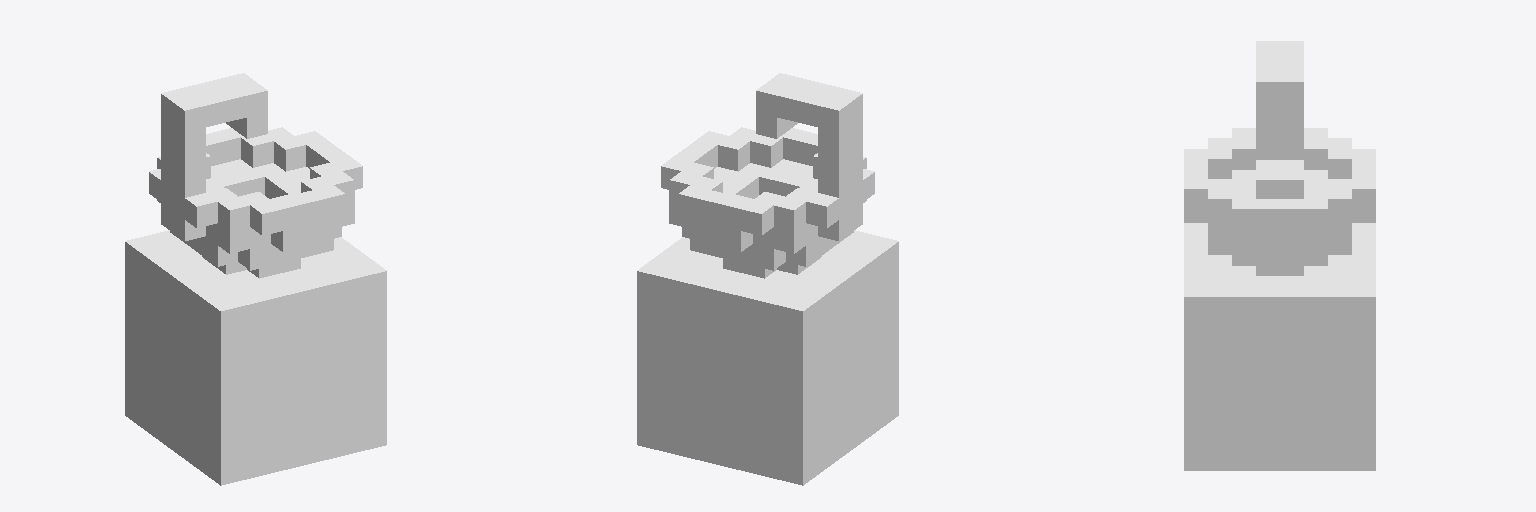
Rendered from Bathroom_Sink_Simple.obj.
3 views of the same model, side by side, from view 1: azimuth 30°, elevation 25°; view 2: azimuth 150°, elevation 25°; view 3: azimuth 270°, elevation 25° (orthographic).
Parts seen in each view (by area): view 1: Bathroom_Sink_Simple; view 2: Bathroom_Sink_Simple; view 3: Bathroom_Sink_Simple.
Boxes of the visible parts, box(x1,y1,x2,y2) form: Bathroom_Sink_Simple: box(125, 73, 386, 485); Bathroom_Sink_Simple: box(637, 73, 898, 485); Bathroom_Sink_Simple: box(1184, 41, 1375, 470).
Size of the model in its own units: 8 by 16 by 8.